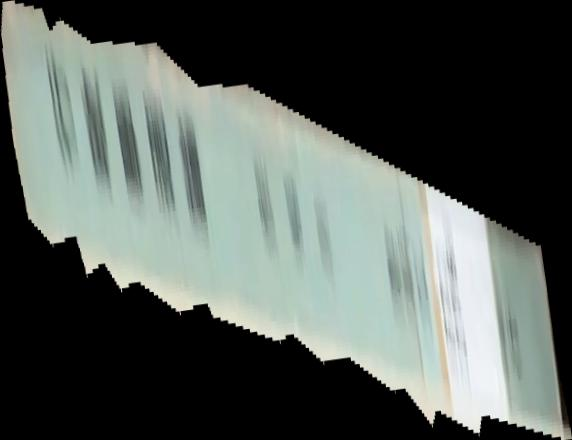flat: (1, 1, 572, 440)
